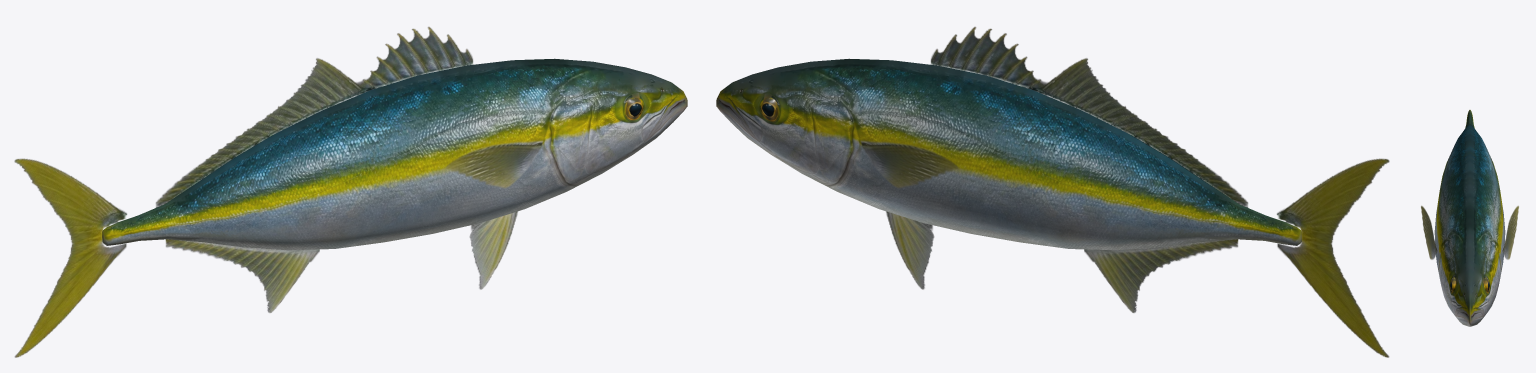
Rendered from hiramasa_lo.glb.
3 views of the same model, side by side, from view 1: azimuth 30°, elevation 25°; view 2: azimuth 150°, elevation 25°; view 3: azimuth 270°, elevation 25° (orthographic). The views are drawn at different scales.
Parts seen in each view (by area): view 1: hiramasa; view 2: hiramasa; view 3: hiramasa.
Part boxes in pixels (x1,y1,x2,y2): hiramasa: [14, 27, 687, 357]; hiramasa: [716, 27, 1389, 357]; hiramasa: [1421, 110, 1518, 326].
Bounding box in the file's own units: 0.9014 × 0.3554 × 0.1706.
Materials: 1 (1 with a texture image).
